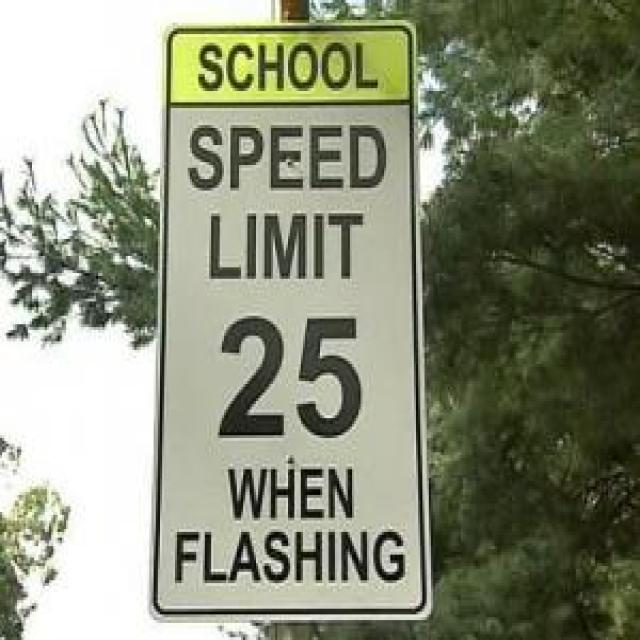speedLimit25: (175, 114, 397, 446)
